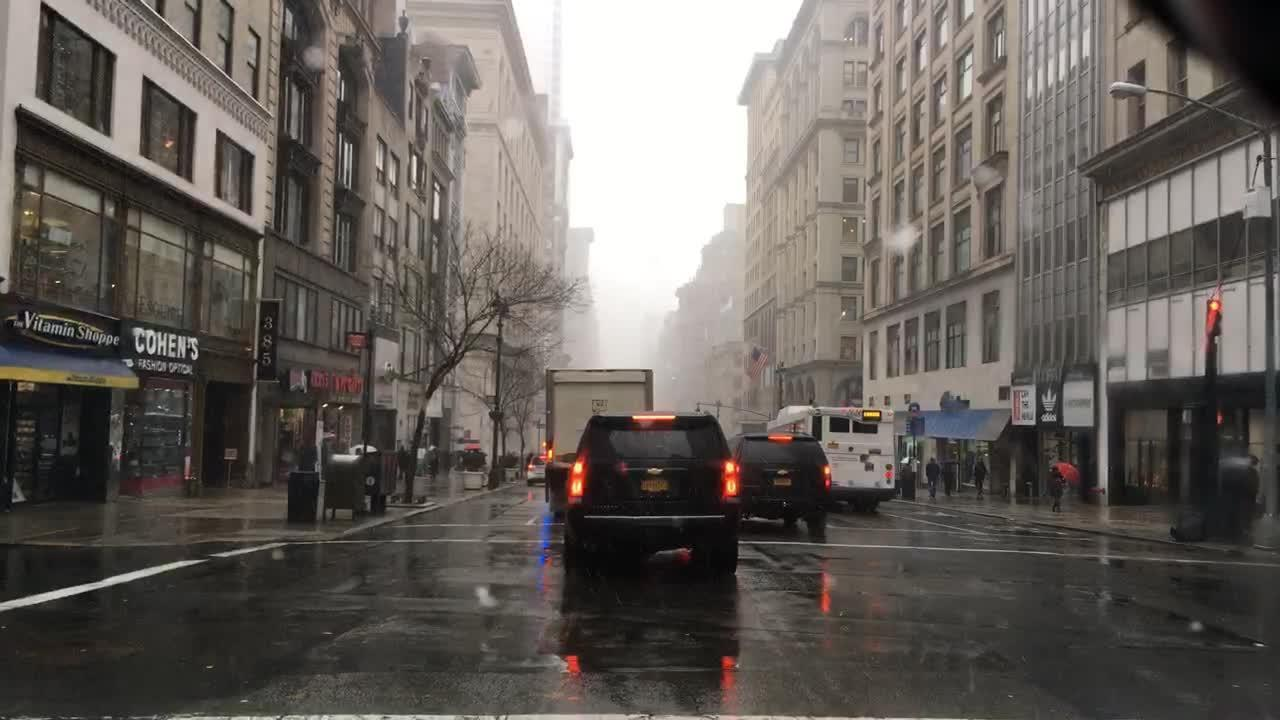chevrolet: (644, 464, 667, 478), (776, 466, 793, 479)
